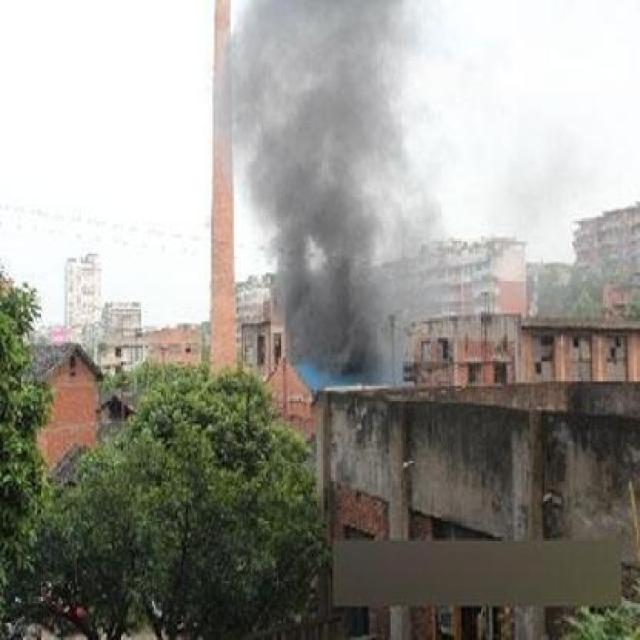Smoke: (230, 9, 426, 408)
